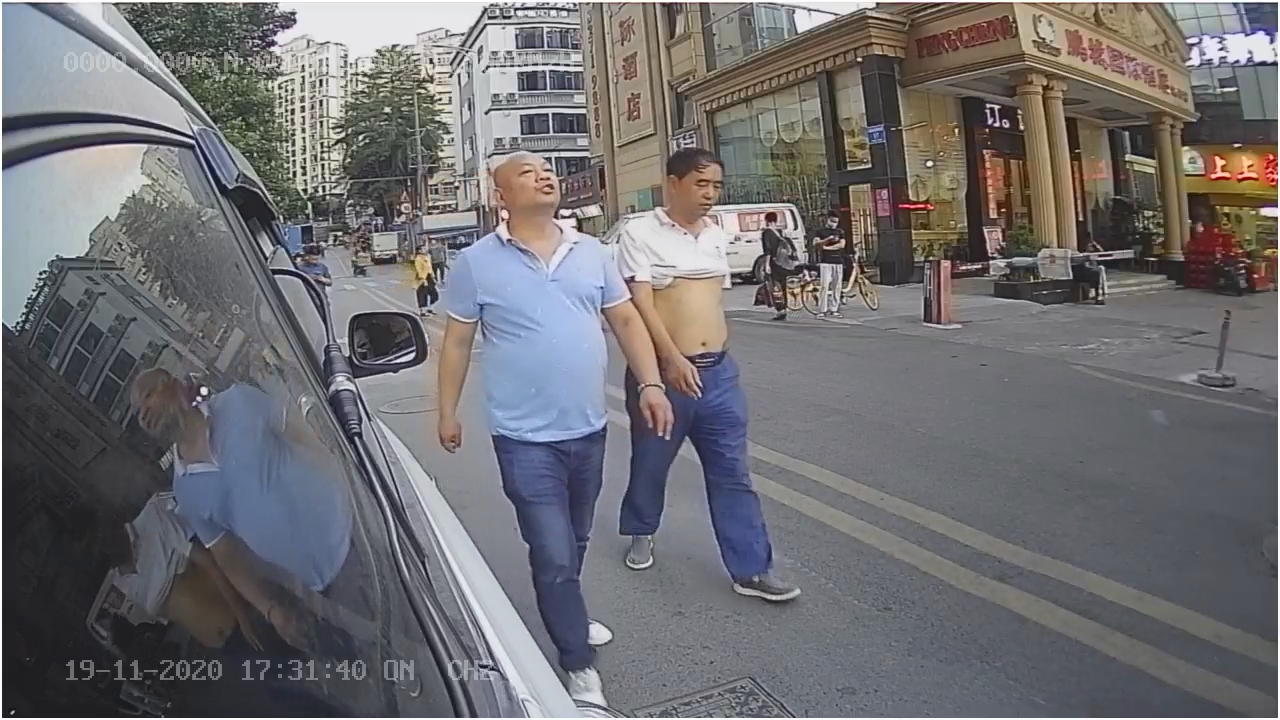person: (449, 150, 607, 526)
